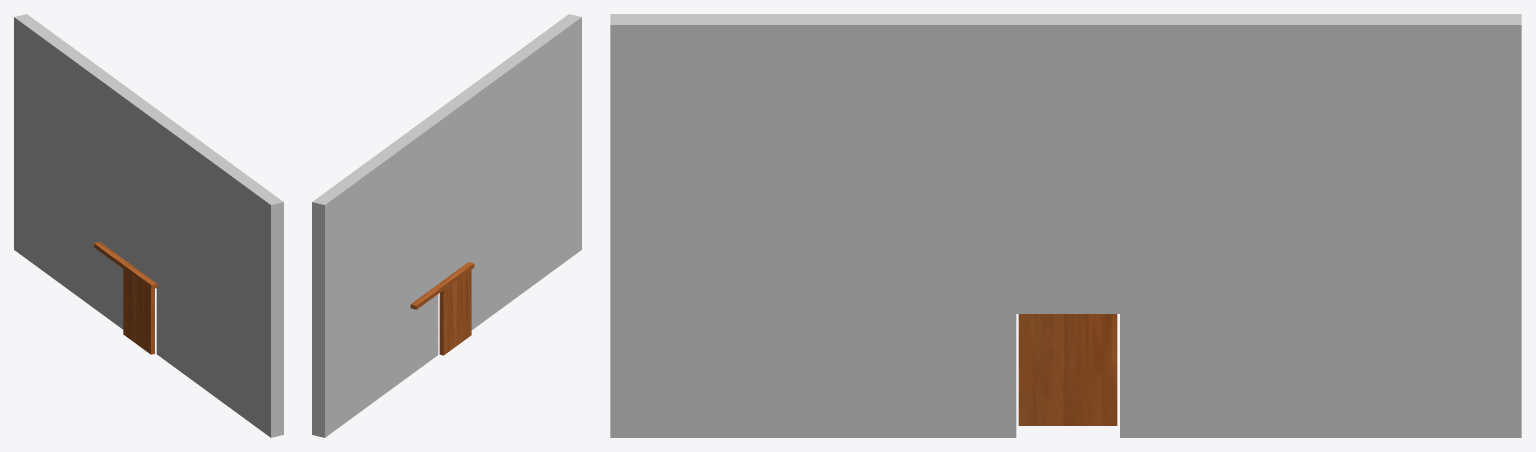
The model's file is murPorteV2.fbx.
The picture shows the model from 3 angles, left to right: view 1: azimuth 30°, elevation 25°; view 2: azimuth 150°, elevation 25°; view 3: azimuth 270°, elevation 25°; orthographic projection. The views are drawn at different scales.
Visible parts, largest first — view 1: Mur, Porte, Coulisse; view 2: Mur, Porte, Coulisse; view 3: Mur, Porte.
Part boxes in pixels (x1,y1,x2,y2): Mur: (14,14,283,437); Porte: (123,269,154,354); Coulisse: (94,242,157,289); Mur: (312,14,581,437); Porte: (439,270,471,355); Coulisse: (410,262,474,309); Mur: (610,14,1521,437); Porte: (1018,314,1117,425).
Size of the model in its own units: 13.54 by 160 by 320.
1 material, 1 textured.
